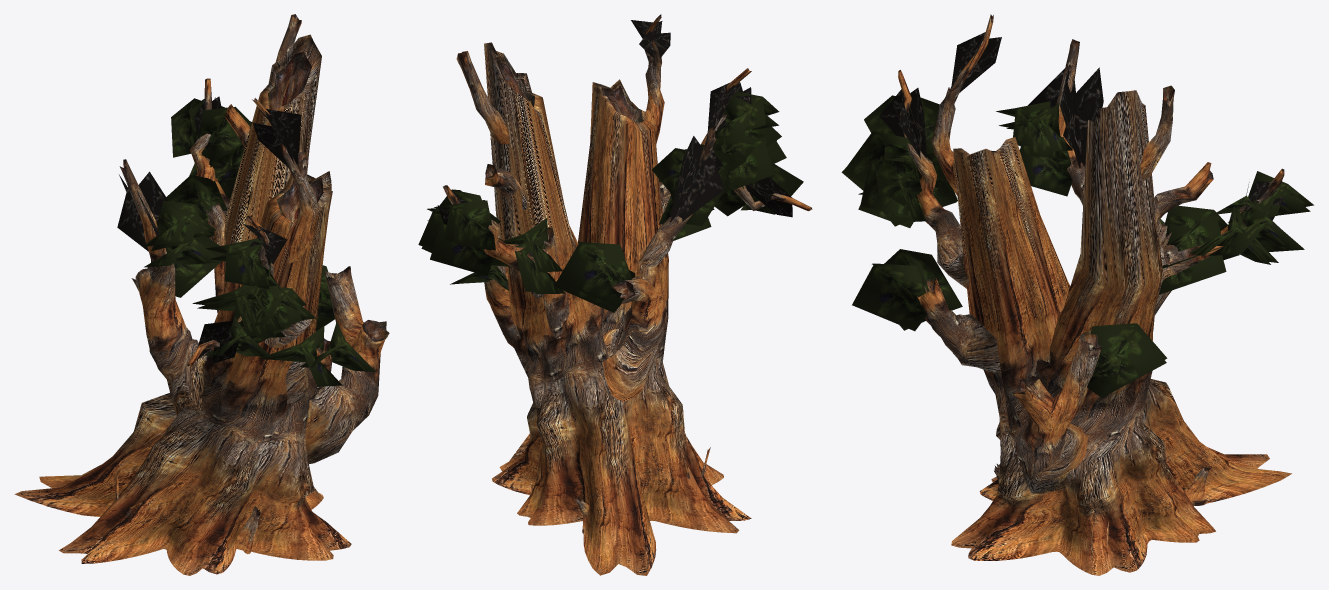
The model's file is BristleconePine_RT_03.fbx.
3 renders of one model, left to right at view 1: azimuth 30°, elevation 25°; view 2: azimuth 150°, elevation 25°; view 3: azimuth 270°, elevation 25°, orthographic. The views are drawn at different scales.
Parts seen in each view (by area): view 1: BristleconePine_RT_03, BristleconePine_RT_03_Leafs; view 2: BristleconePine_RT_03, BristleconePine_RT_03_Leafs; view 3: BristleconePine_RT_03, BristleconePine_RT_03_Leafs.
Boxes of the visible parts, bbox=[...] form: BristleconePine_RT_03: bbox=[14, 14, 389, 575]; BristleconePine_RT_03_Leafs: bbox=[117, 96, 376, 386]; BristleconePine_RT_03: bbox=[443, 14, 812, 575]; BristleconePine_RT_03_Leafs: bbox=[418, 20, 803, 312]; BristleconePine_RT_03: bbox=[898, 14, 1291, 575]; BristleconePine_RT_03_Leafs: bbox=[841, 32, 1313, 397].
Size of the model in its own units: 5.59 by 7.25 by 8.46.
